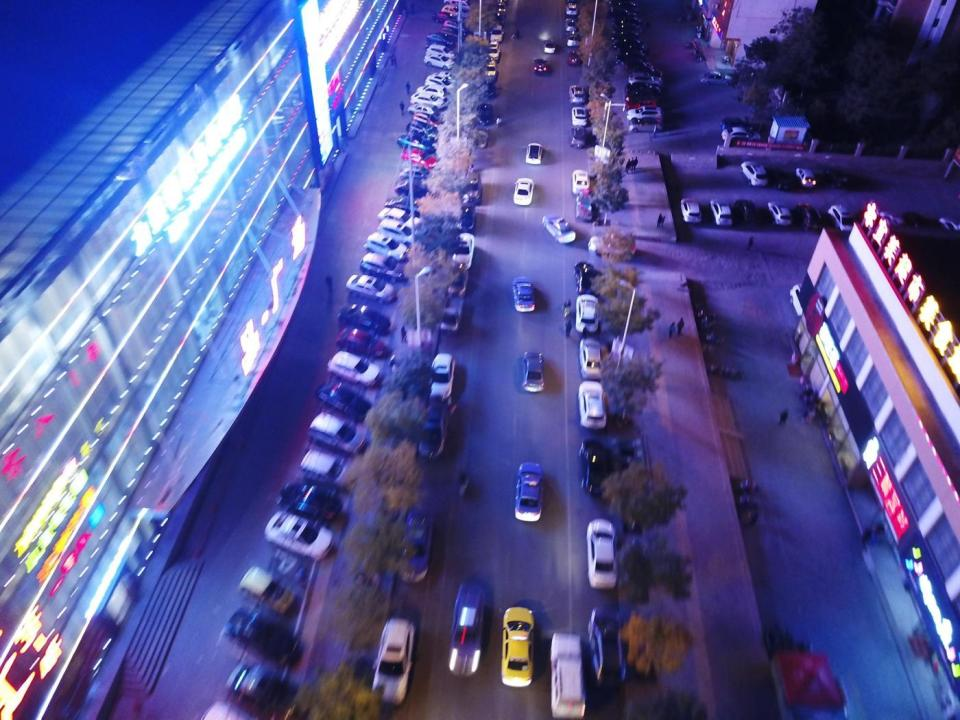bus: (438, 296, 463, 332)
car: (222, 608, 301, 665), (226, 660, 299, 712), (371, 617, 413, 704), (264, 511, 334, 561), (450, 580, 486, 674), (588, 608, 626, 686), (274, 481, 341, 522), (503, 605, 532, 685), (400, 509, 430, 581), (318, 382, 374, 420), (587, 519, 616, 589), (579, 439, 610, 498), (328, 351, 380, 386), (417, 402, 446, 458), (338, 304, 390, 335), (514, 464, 541, 523), (335, 329, 386, 360), (578, 378, 606, 428), (346, 275, 395, 302), (378, 207, 425, 235), (360, 252, 406, 280), (365, 232, 408, 260), (430, 354, 455, 399), (586, 236, 635, 258), (378, 219, 418, 245), (790, 283, 818, 318), (523, 349, 545, 392), (581, 337, 603, 380), (542, 214, 576, 241), (576, 295, 600, 333), (385, 197, 426, 217), (828, 204, 855, 234), (576, 260, 599, 295), (398, 134, 434, 156), (451, 233, 474, 266), (513, 277, 534, 313), (401, 150, 438, 170), (741, 160, 767, 188), (797, 203, 822, 232), (395, 181, 432, 200), (722, 128, 761, 146), (408, 121, 438, 144), (446, 266, 468, 296), (410, 94, 444, 112), (769, 199, 792, 225), (464, 172, 482, 204), (710, 200, 732, 226), (734, 199, 756, 225), (905, 212, 930, 234), (455, 205, 476, 231), (680, 197, 701, 223), (625, 82, 661, 97), (880, 208, 901, 233), (514, 178, 534, 204), (627, 107, 664, 121), (720, 117, 752, 133), (412, 112, 442, 129), (624, 90, 658, 105), (826, 168, 849, 190), (629, 118, 662, 133), (629, 73, 662, 88), (795, 167, 817, 189), (416, 86, 446, 102), (424, 54, 454, 70), (425, 44, 455, 60), (699, 72, 733, 86), (772, 167, 792, 190), (406, 104, 438, 118), (938, 215, 958, 237), (569, 124, 586, 149), (427, 34, 455, 49), (473, 104, 492, 126), (573, 168, 589, 194), (625, 99, 658, 111), (618, 47, 648, 60), (400, 169, 428, 182), (424, 77, 452, 90), (526, 143, 543, 164), (612, 39, 642, 50), (613, 23, 638, 36), (428, 72, 455, 84), (568, 85, 585, 104), (572, 106, 588, 126), (615, 55, 644, 66), (445, 21, 469, 34), (624, 59, 650, 71), (578, 189, 594, 208), (433, 12, 458, 24), (577, 200, 592, 220), (440, 28, 464, 40), (631, 67, 657, 78), (442, 5, 465, 17), (610, 8, 633, 20), (472, 130, 488, 147), (612, 2, 638, 12), (489, 25, 503, 42), (614, 32, 639, 41), (614, 18, 638, 27), (484, 60, 497, 76), (481, 82, 495, 96), (543, 38, 556, 53), (534, 58, 547, 73), (567, 52, 582, 64), (567, 30, 578, 46), (566, 2, 578, 15), (486, 48, 498, 60), (565, 18, 576, 31), (491, 15, 503, 25), (489, 42, 499, 51), (497, 0, 508, 6), (496, 6, 504, 12)
van: (552, 634, 584, 718), (238, 567, 295, 614), (305, 411, 365, 454), (301, 448, 355, 489), (443, 0, 469, 10)
